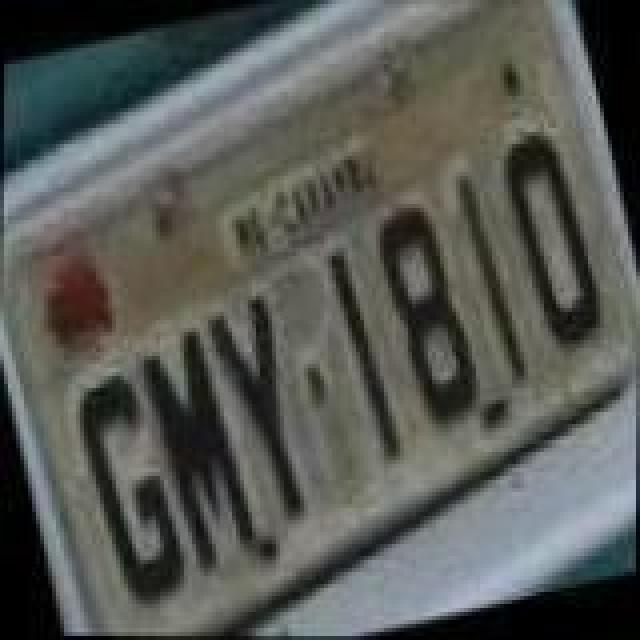1: (320, 244, 416, 472), (444, 166, 532, 394)
8: (364, 190, 492, 434)
G: (66, 360, 202, 616)
M: (130, 324, 266, 580)
O: (492, 122, 616, 358)
Y: (200, 292, 324, 536)
